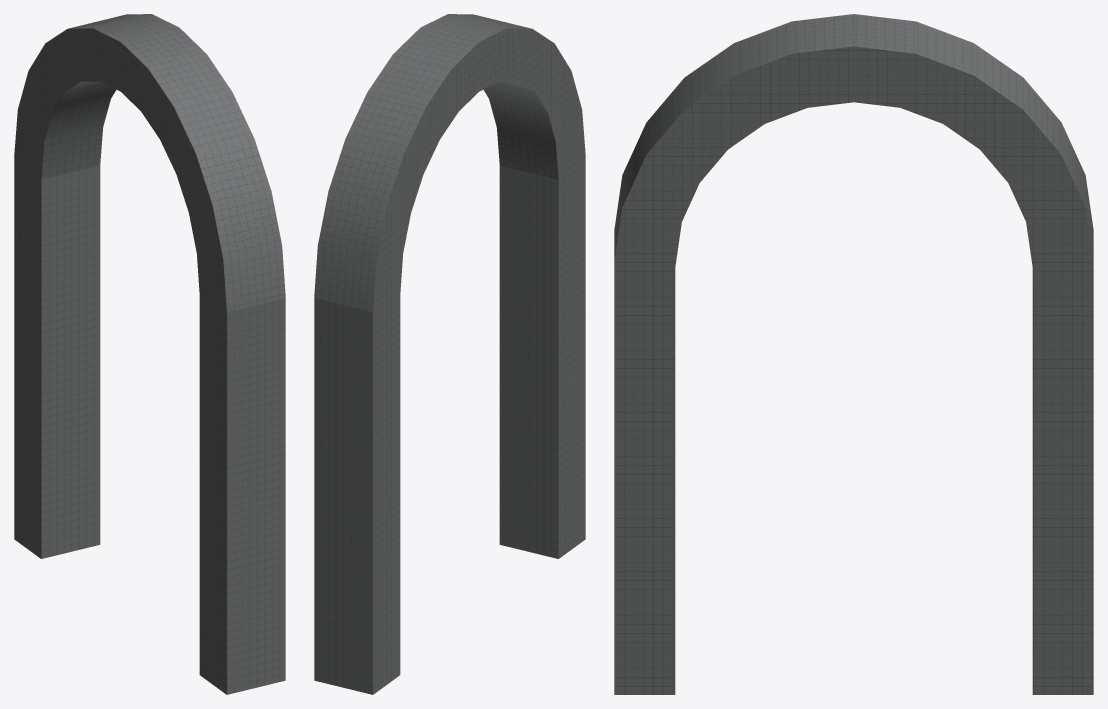
Rendered from modularBuildings_099.obj.
The picture shows the model from 3 angles, left to right: view 1: azimuth 30°, elevation 25°; view 2: azimuth 150°, elevation 25°; view 3: azimuth 270°, elevation 25°; orthographic projection. The views are drawn at different scales.
Visible parts, largest first — view 1: Mesh1 Group1 Model; view 2: Mesh1 Group1 Model; view 3: Mesh1 Group1 Model.
Boxes of the visible parts, x1,y1,x2,y2 form: Mesh1 Group1 Model: (14, 14, 285, 694); Mesh1 Group1 Model: (314, 14, 585, 694); Mesh1 Group1 Model: (614, 14, 1093, 694).
Bounding box in the file's own units: 0.05 × 0.4663 × 0.3125.
Materials: 1 (1 with a texture image).
